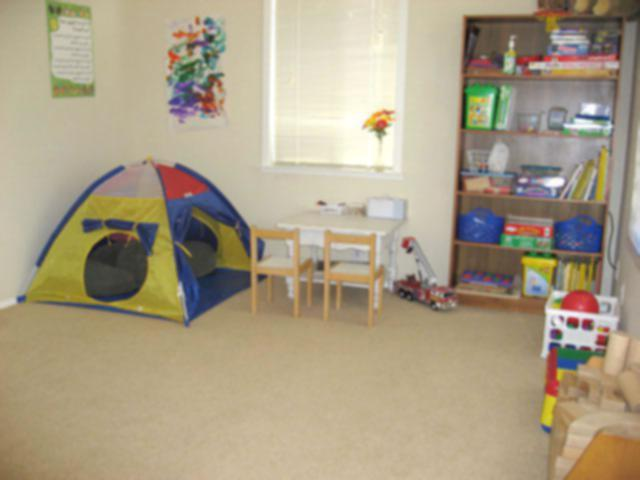Otro Obstaculo: (19, 167, 258, 309), (546, 338, 635, 477), (543, 297, 617, 352)
